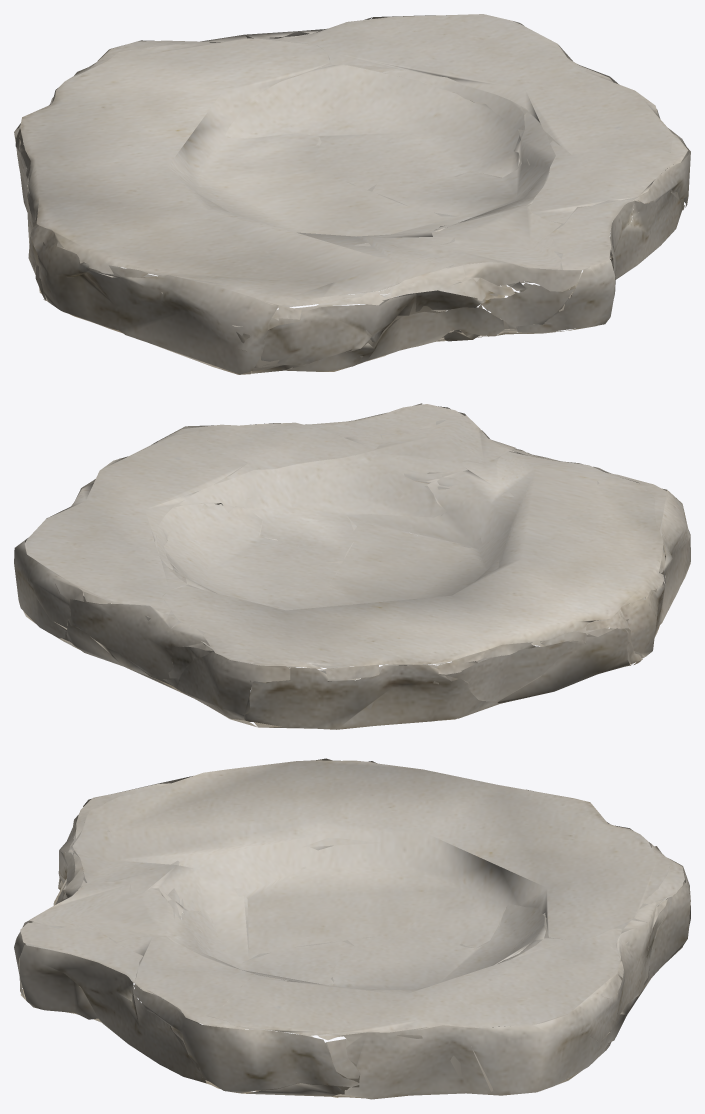
The model's file is stone.glb.
The picture shows the model from 3 angles, top to bottom: view 1: azimuth 30°, elevation 25°; view 2: azimuth 150°, elevation 25°; view 3: azimuth 270°, elevation 25°; orthographic projection. The views are drawn at different scales.
Visible parts, largest first — view 1: node_0; view 2: node_0; view 3: node_0.
Part boxes in pixels (x1,y1,x2,y2): node_0: (14,14,690,374); node_0: (14,403,690,729); node_0: (14,758,690,1099).
Size of the model in its own units: 0.95 by 0.1186 by 0.9486.
1 material, 1 textured.
